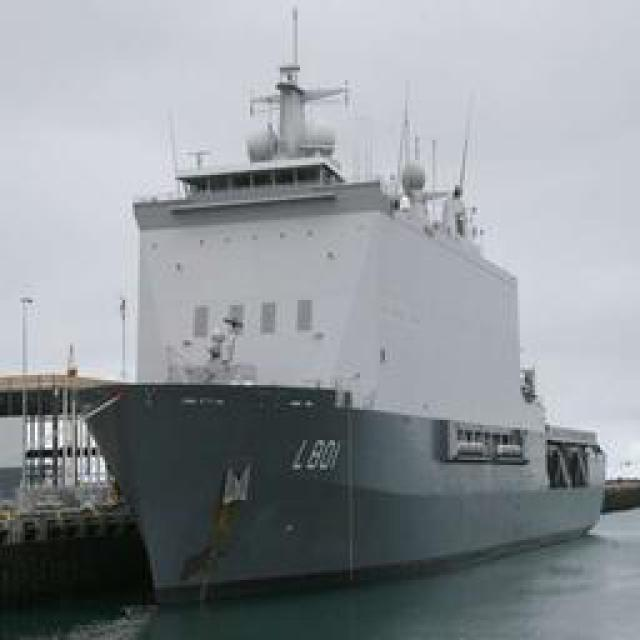Ship: (69, 45, 612, 610)
